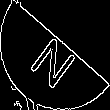N_NE: (26, 23, 84, 87)
